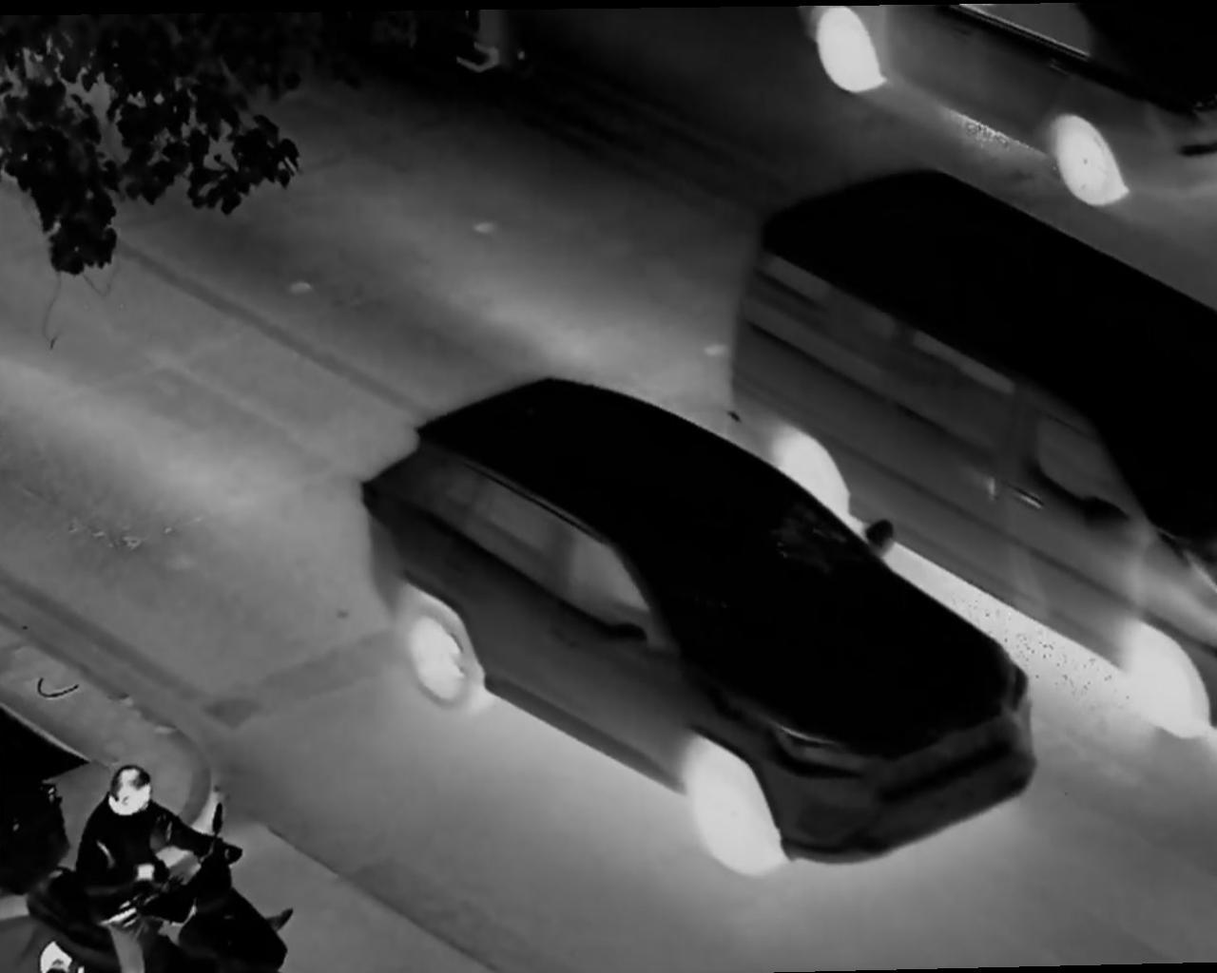person: (75, 757, 222, 973)
